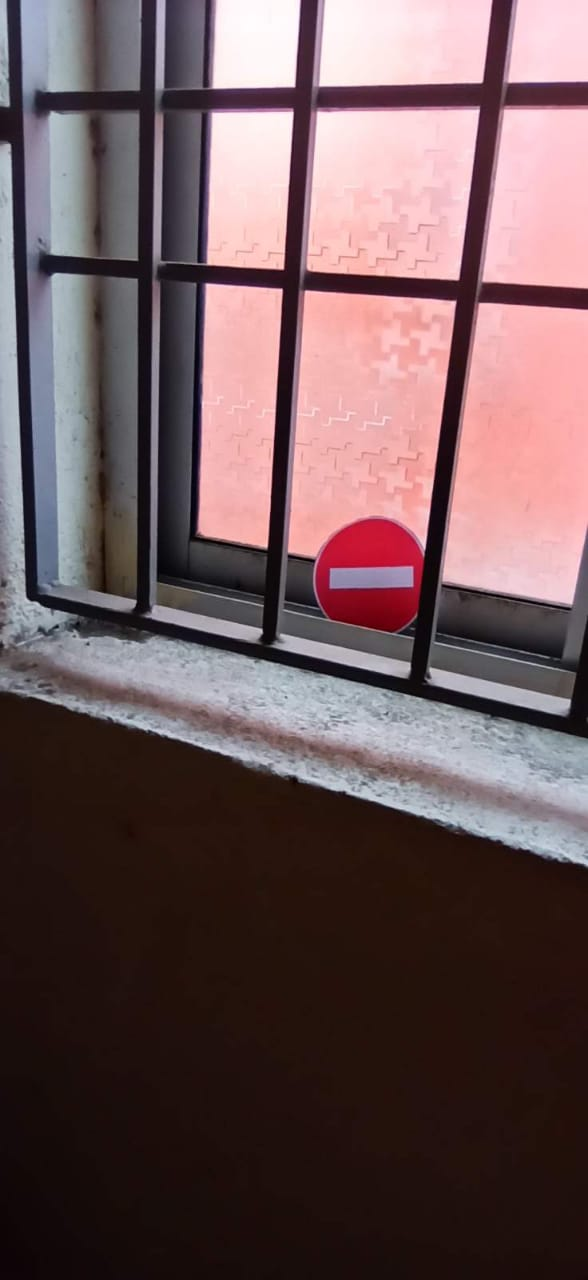NO ENTRY: (301, 507, 439, 656)
